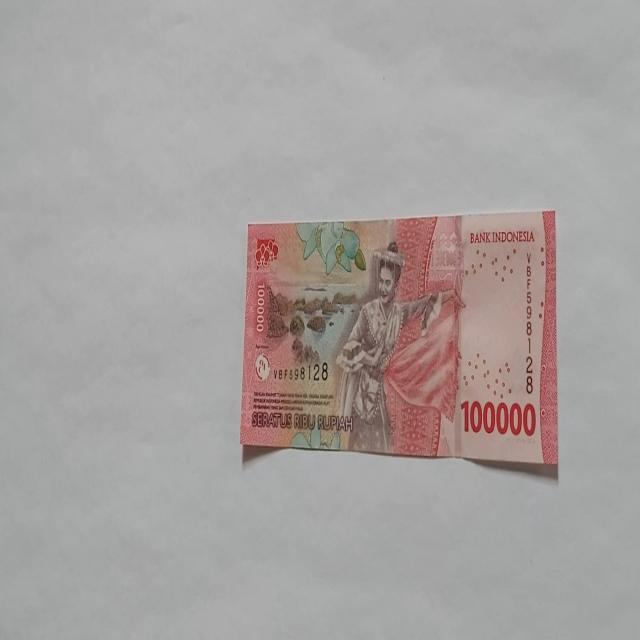seratus ribu rupiah: (240, 210, 558, 474), (332, 241, 440, 453)
